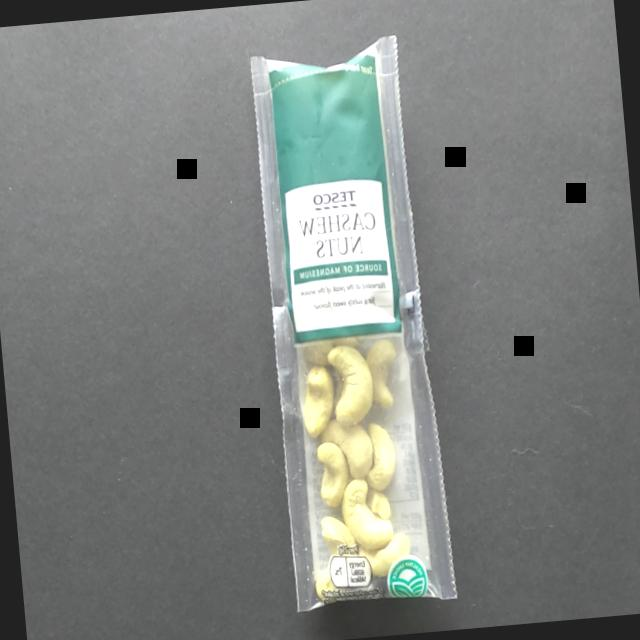Cashewnut: (207, 2, 483, 640)
